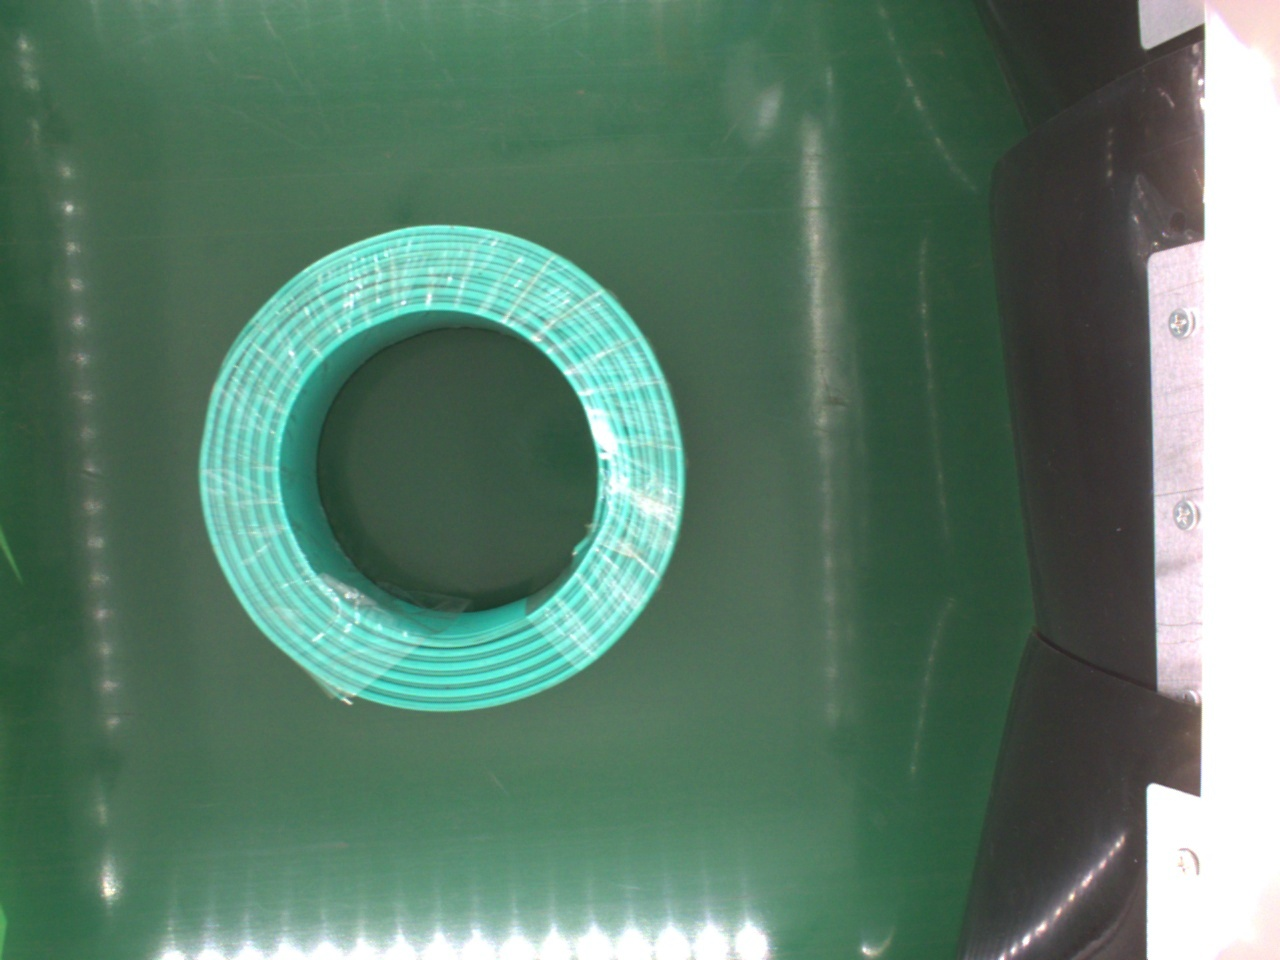green: (193, 225, 686, 718)
